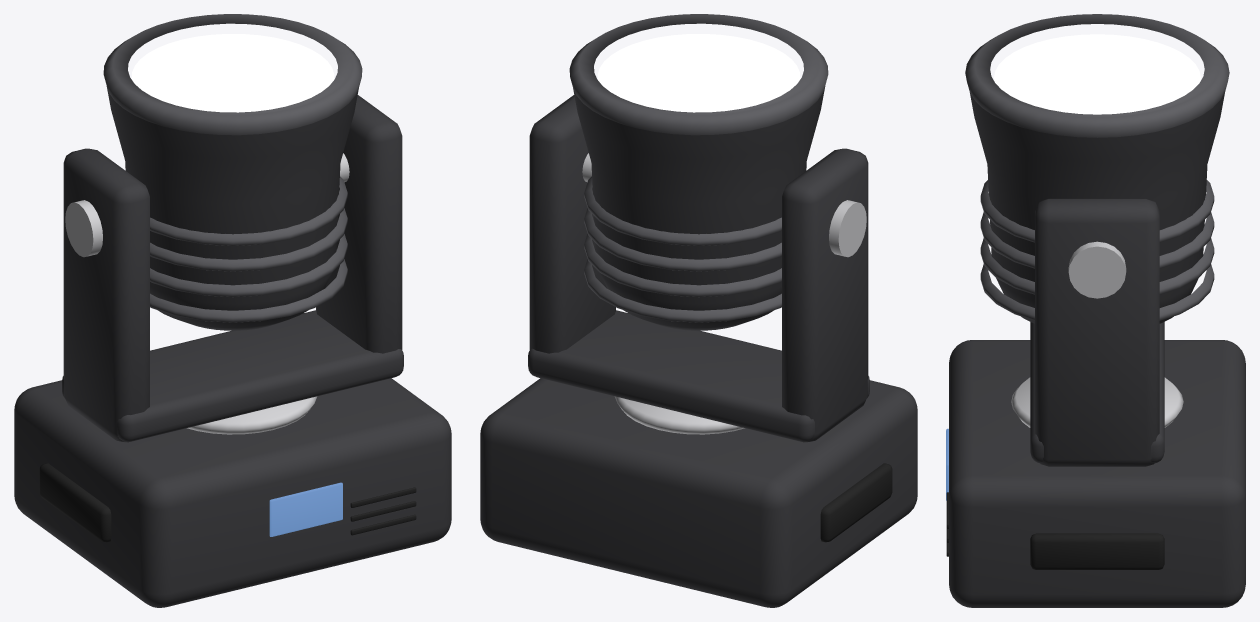
The model's file is club_moving_head.glb.
3 views of the same model, side by side, from view 1: azimuth 30°, elevation 25°; view 2: azimuth 150°, elevation 25°; view 3: azimuth 270°, elevation 25° (orthographic). The views are drawn at different scales.
Parts seen in each view (by area): view 1: MH1_BaseDark, MH1_PanDark, MH1_TiltDark, MH1_TiltPlastic, MH1_TiltLens, MH1_BaseRubber, MH1_PanSteel, MH1_BaseScreen; view 2: MH1_BaseDark, MH1_PanDark, MH1_TiltDark, MH1_TiltPlastic, MH1_TiltLens, MH1_PanSteel, MH1_BaseRubber; view 3: MH1_BaseDark, MH1_PanDark, MH1_TiltDark, MH1_TiltPlastic, MH1_TiltLens, MH1_BaseRubber, MH1_PanSteel.
Boxes of the visible parts, box(x1,y1,x2,y2) form: MH1_BaseDark: box(14, 378, 451, 607); MH1_PanDark: box(62, 95, 403, 442); MH1_TiltDark: box(106, 86, 358, 330); MH1_TiltPlastic: box(103, 14, 362, 322); MH1_TiltLens: box(131, 34, 334, 112); MH1_BaseRubber: box(39, 463, 416, 542); MH1_PanSteel: box(65, 200, 317, 434); MH1_BaseScreen: box(269, 482, 342, 536); MH1_BaseDark: box(480, 378, 917, 607); MH1_PanDark: box(528, 95, 869, 442); MH1_TiltDark: box(573, 86, 825, 330); MH1_TiltPlastic: box(569, 14, 828, 322); MH1_TiltLens: box(597, 34, 800, 112); MH1_PanSteel: box(614, 200, 866, 434); MH1_BaseRubber: box(820, 463, 892, 542); MH1_BaseDark: box(949, 340, 1245, 607); MH1_PanDark: box(1030, 198, 1164, 466); MH1_TiltDark: box(969, 92, 1224, 323); MH1_TiltPlastic: box(965, 14, 1229, 320); MH1_TiltLens: box(994, 34, 1200, 114); MH1_BaseRubber: box(946, 492, 1164, 569); MH1_PanSteel: box(1011, 241, 1183, 427).
Size of the model in its own units: 0.4 by 0.546 by 0.313.
